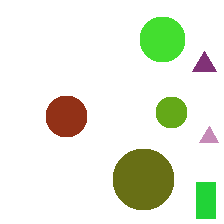circle: (113, 149, 173, 209), (140, 17, 184, 61), (46, 96, 86, 136), (156, 97, 186, 127)
rectangle: (196, 182, 215, 218)
triangle: (192, 51, 216, 71), (199, 126, 218, 142)
